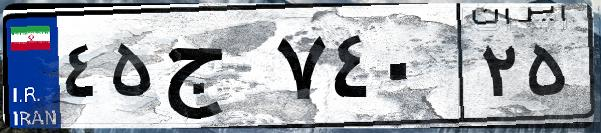0: (385, 28, 445, 110)
2: (475, 38, 525, 113)
4: (330, 28, 385, 110), (57, 26, 110, 100)
5: (525, 38, 570, 115), (110, 28, 158, 98)
7: (270, 28, 330, 110)
ج: (158, 20, 270, 120)
